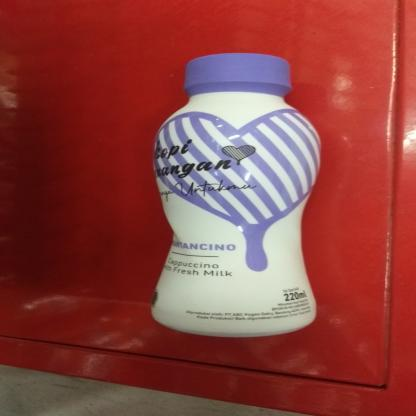plastic: (146, 47, 327, 341)
